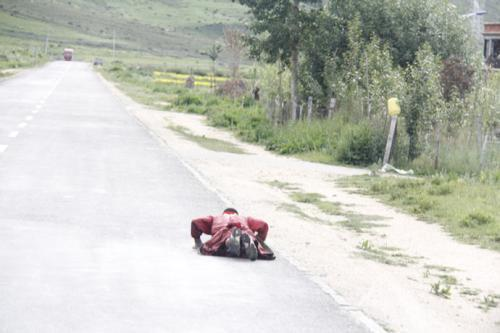Fall-Detected: (183, 198, 277, 265)
